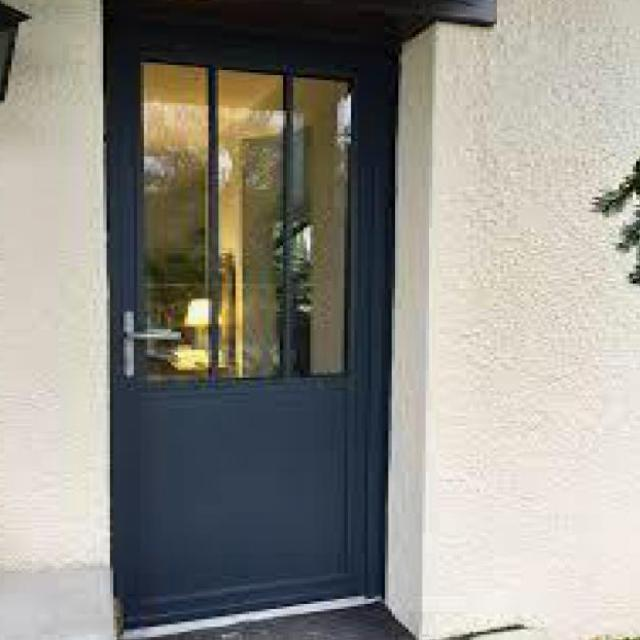door: (106, 23, 392, 629)
